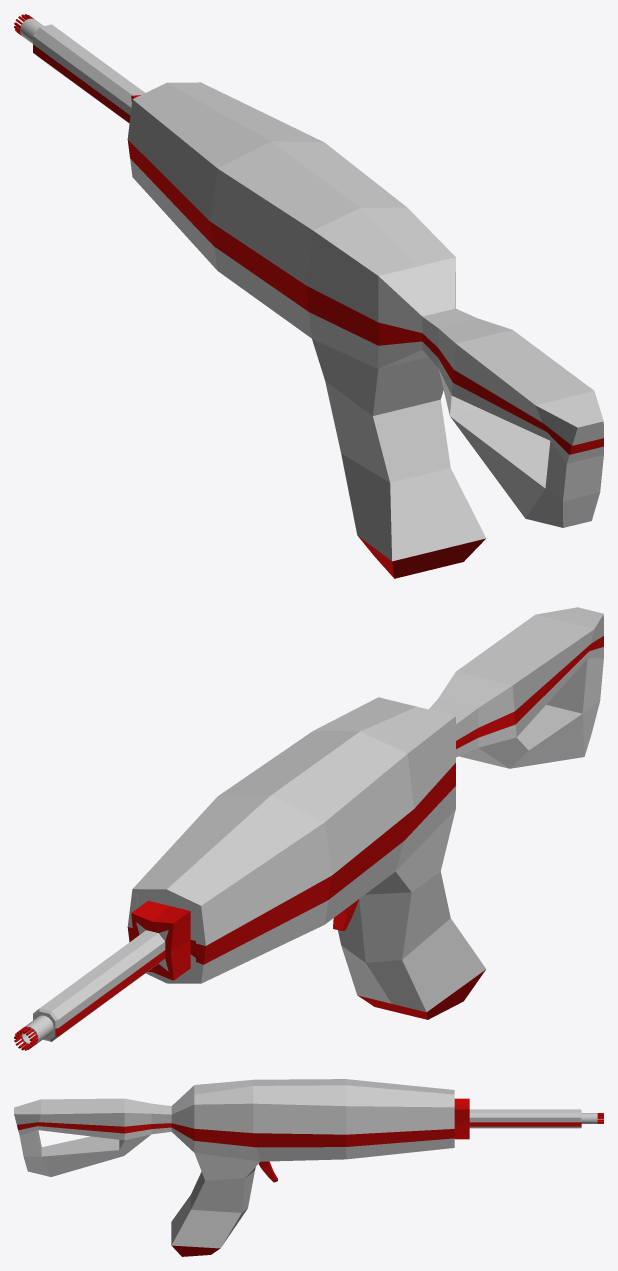
File: shotgun_laser.obj
The picture shows the model from 3 angles, top to bottom: view 1: azimuth 30°, elevation 25°; view 2: azimuth 150°, elevation 25°; view 3: azimuth 270°, elevation 25°; orthographic projection. The views are drawn at different scales.
Visible parts, largest first — view 1: Cube; view 2: Cube; view 3: Cube.
Boxes of the visible parts, x1,y1,x2,y2 form: Cube: [14, 14, 603, 578]; Cube: [14, 607, 603, 1050]; Cube: [14, 1079, 603, 1256].
Size of the model in its own units: 2.59 by 6.36 by 20.87.
